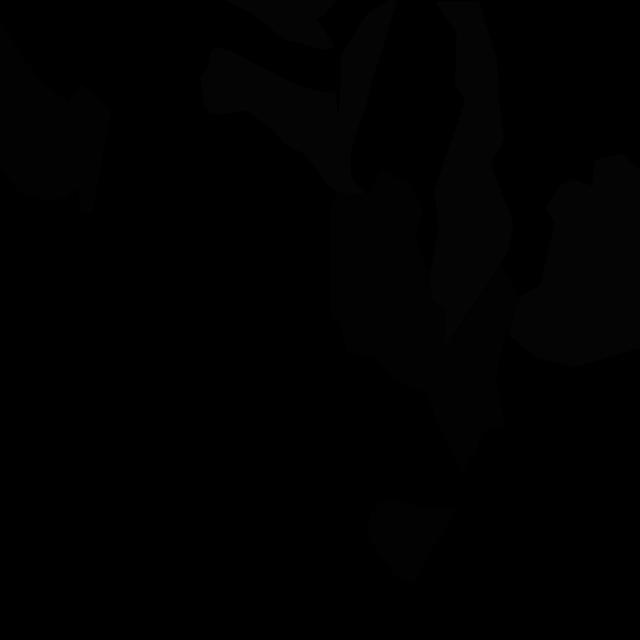cardboard: (330, 170, 445, 393), (0, 18, 112, 214), (426, 265, 519, 474), (366, 497, 455, 584)
soft_plastic: (429, 1, 514, 349), (508, 154, 640, 367), (200, 47, 338, 193), (335, 0, 397, 195), (224, 0, 337, 50)
